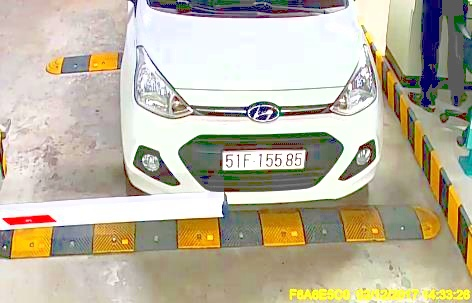plate: (222, 146, 305, 174)
